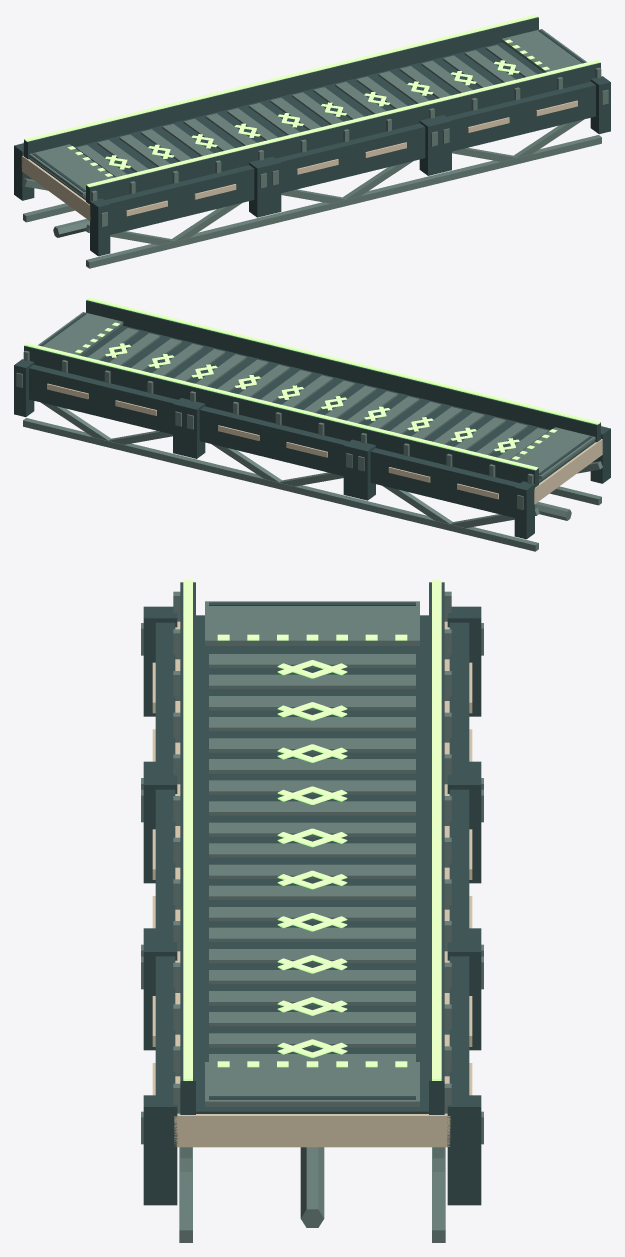
The model's file is Deck_Conveyor_Belt_v4_12.glb.
3 renders of one model, top to bottom at view 1: azimuth 30°, elevation 25°; view 2: azimuth 150°, elevation 25°; view 3: azimuth 270°, elevation 25°, orthographic. The views are drawn at different scales.
Visible parts, largest first — view 1: Deck_Conveyor_Belt_v4_12, Treads, TreadsRev; view 2: Deck_Conveyor_Belt_v4_12, Treads, TreadsRev; view 3: Deck_Conveyor_Belt_v4_12, Treads, TreadsRev.
Boxes of the visible parts, x1,y1,x2,y2 form: Deck_Conveyor_Belt_v4_12: [14, 14, 610, 268]; Treads: [78, 45, 536, 176]; TreadsRev: [76, 45, 537, 177]; Deck_Conveyor_Belt_v4_12: [14, 297, 610, 551]; Treads: [88, 328, 546, 459]; TreadsRev: [88, 328, 548, 460]; Deck_Conveyor_Belt_v4_12: [141, 580, 483, 1242]; Treads: [209, 654, 415, 1061]; TreadsRev: [209, 654, 415, 1061].
Size of the model in its own units: 12.05 by 1.83 by 3.48.
